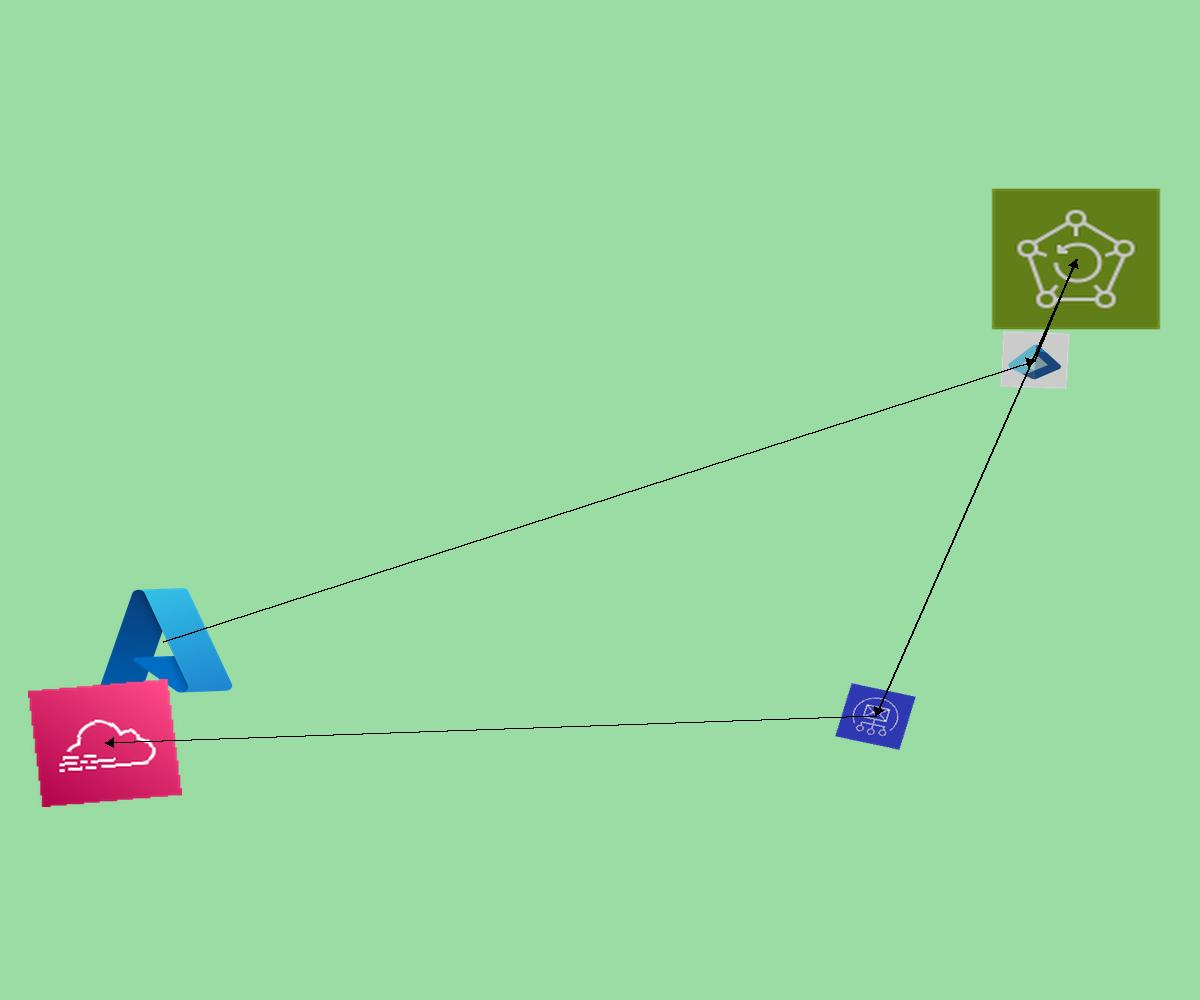AWS-Backup: (990, 187, 1162, 331)
AWS-CloudTrail: (28, 679, 182, 807)
AWS-Simple-Email-Service: (835, 683, 916, 750)
Azure_microsoft_entra: (1000, 331, 1070, 389)
Azure_services: (87, 578, 239, 704)
